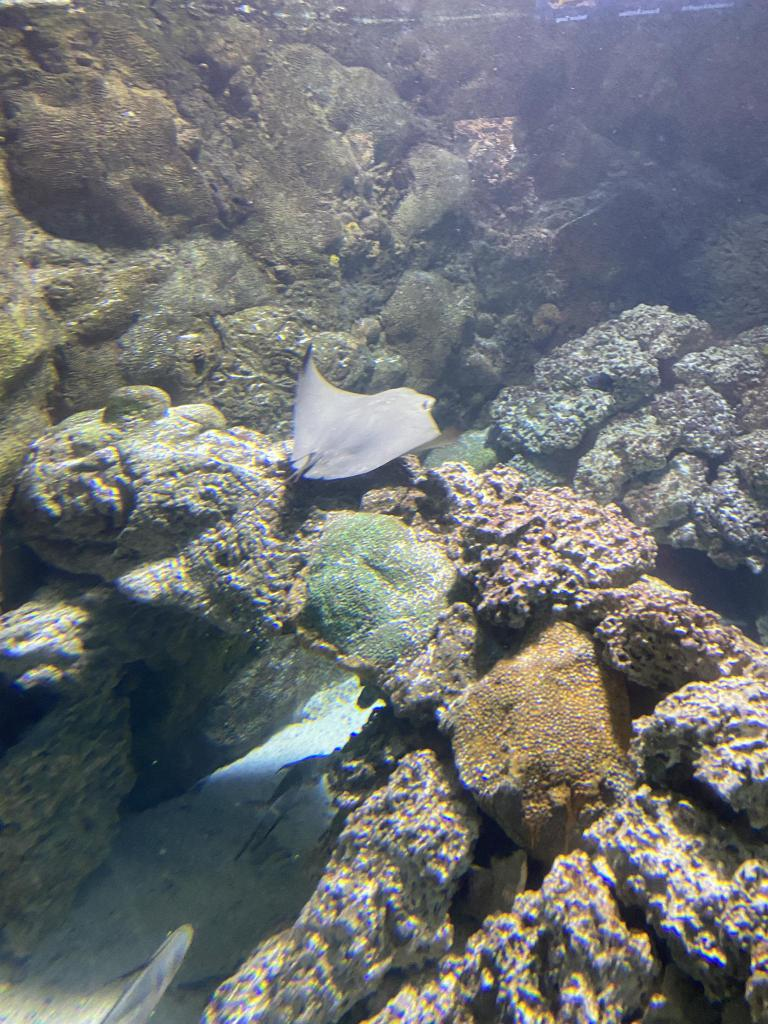fish: (100, 923, 194, 1023), (240, 753, 330, 855)
stingray: (290, 342, 440, 480)
